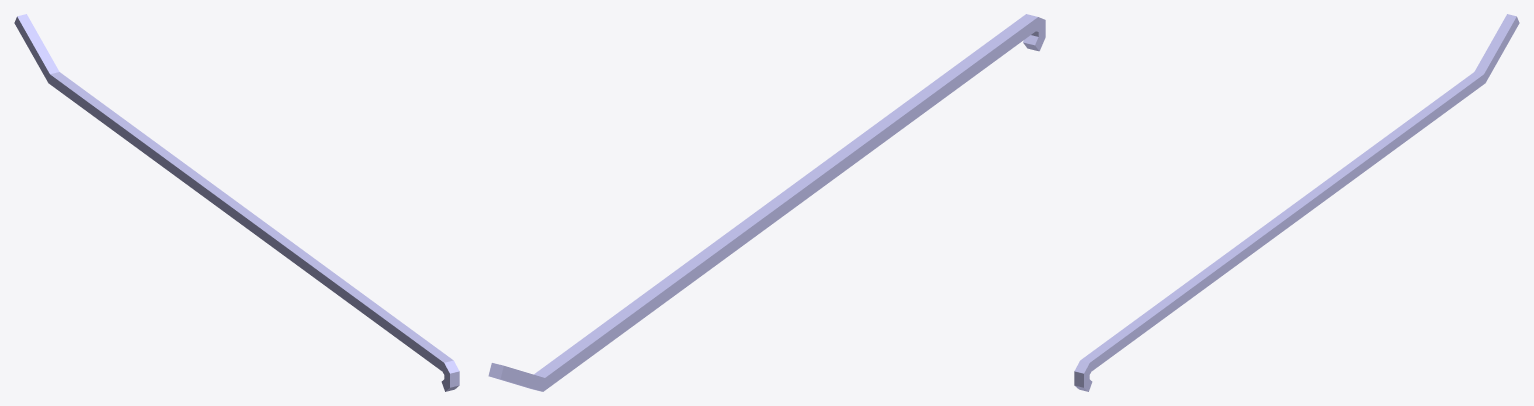
The model's file is original-68.obj.
3 renders of one model, left to right at view 1: azimuth 30°, elevation 25°; view 2: azimuth 150°, elevation 25°; view 3: azimuth 330°, elevation 25°, orthographic. The views are drawn at different scales.
Parts seen in each view (by area): view 1: mesh84/mesh84-geometry#mesh84-geometry; view 2: mesh84/mesh84-geometry#mesh84-geometry; view 3: mesh84/mesh84-geometry#mesh84-geometry.
Boxes of the visible parts, bbox=[...] form: mesh84/mesh84-geometry#mesh84-geometry: bbox=[14, 14, 459, 391]; mesh84/mesh84-geometry#mesh84-geometry: bbox=[488, 14, 1045, 391]; mesh84/mesh84-geometry#mesh84-geometry: bbox=[1074, 14, 1519, 391].
Size of the model in its own units: 0.00831 by 0.0512 by 0.6491.
